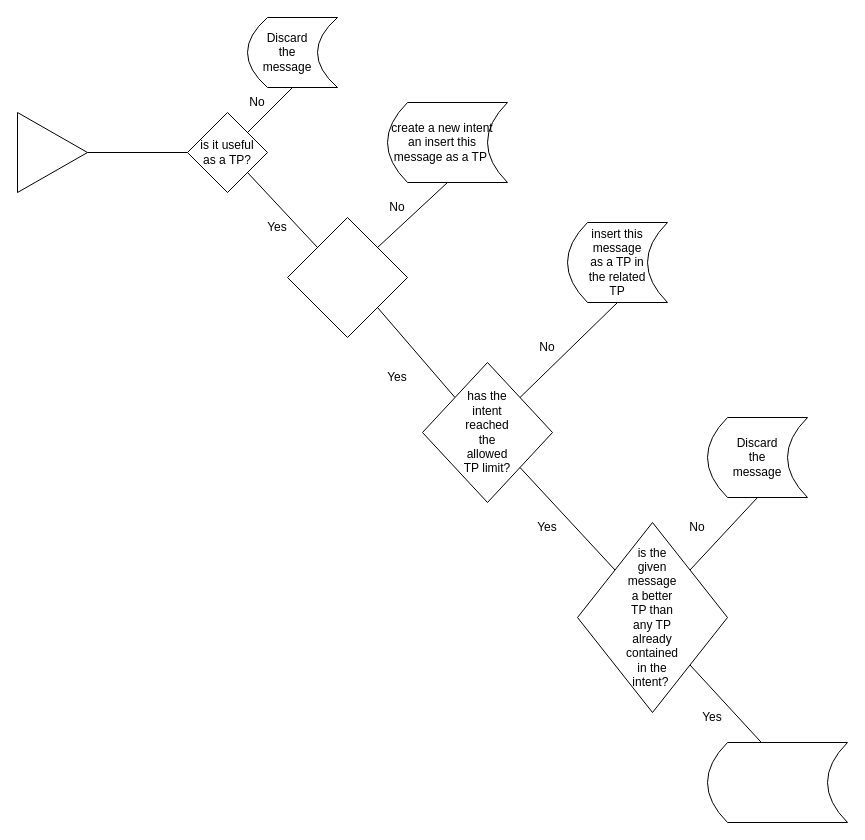
The diagram is 865 pixels wide and 840 high, and some of its shapes have lost their labels. Each missing label, with the centre of its shape:
insert the message as a TP in the place of the TP deemed to be whorse: the point at 777,782
is it related to a already existing intent?: the point at 347,277
message: the point at 52,152
